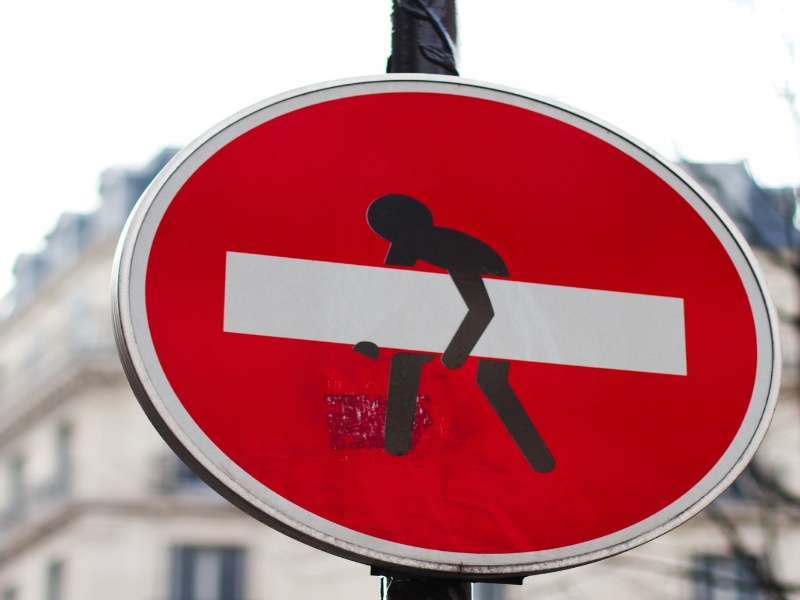no_entry: (105, 69, 790, 579)
